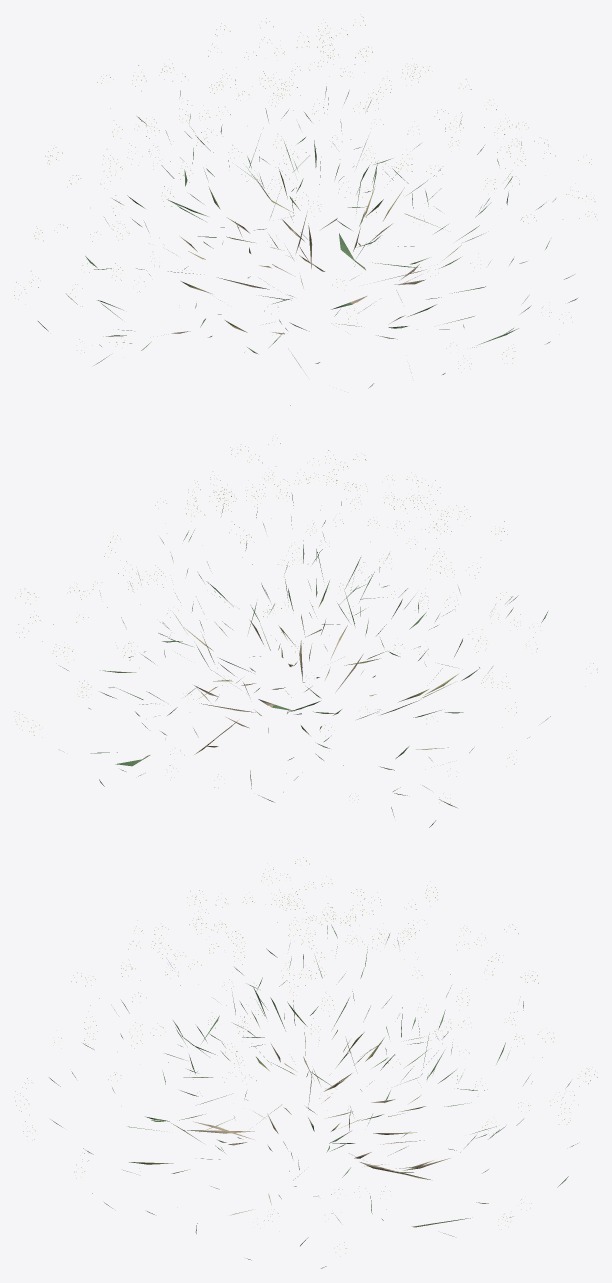
File: bush_lupine.glb
3 views of the same model, one above another, from view 1: azimuth 30°, elevation 25°; view 2: azimuth 150°, elevation 25°; view 3: azimuth 270°, elevation 25° (orthographic). The views are drawn at different scales.
Visible parts, largest first — view 1: bush_lupine; view 2: bush_lupine; view 3: bush_lupine.
Boxes of the visible parts, left/top/right/bottom form: bush_lupine: left=14, top=17, right=596, bottom=405; bush_lupine: left=15, top=440, right=597, bottom=827; bush_lupine: left=15, top=857, right=597, bottom=1268.
Bounding box in the file's own units: 2.4 × 1.27 × 2.29.
3 materials, 3 textured.
